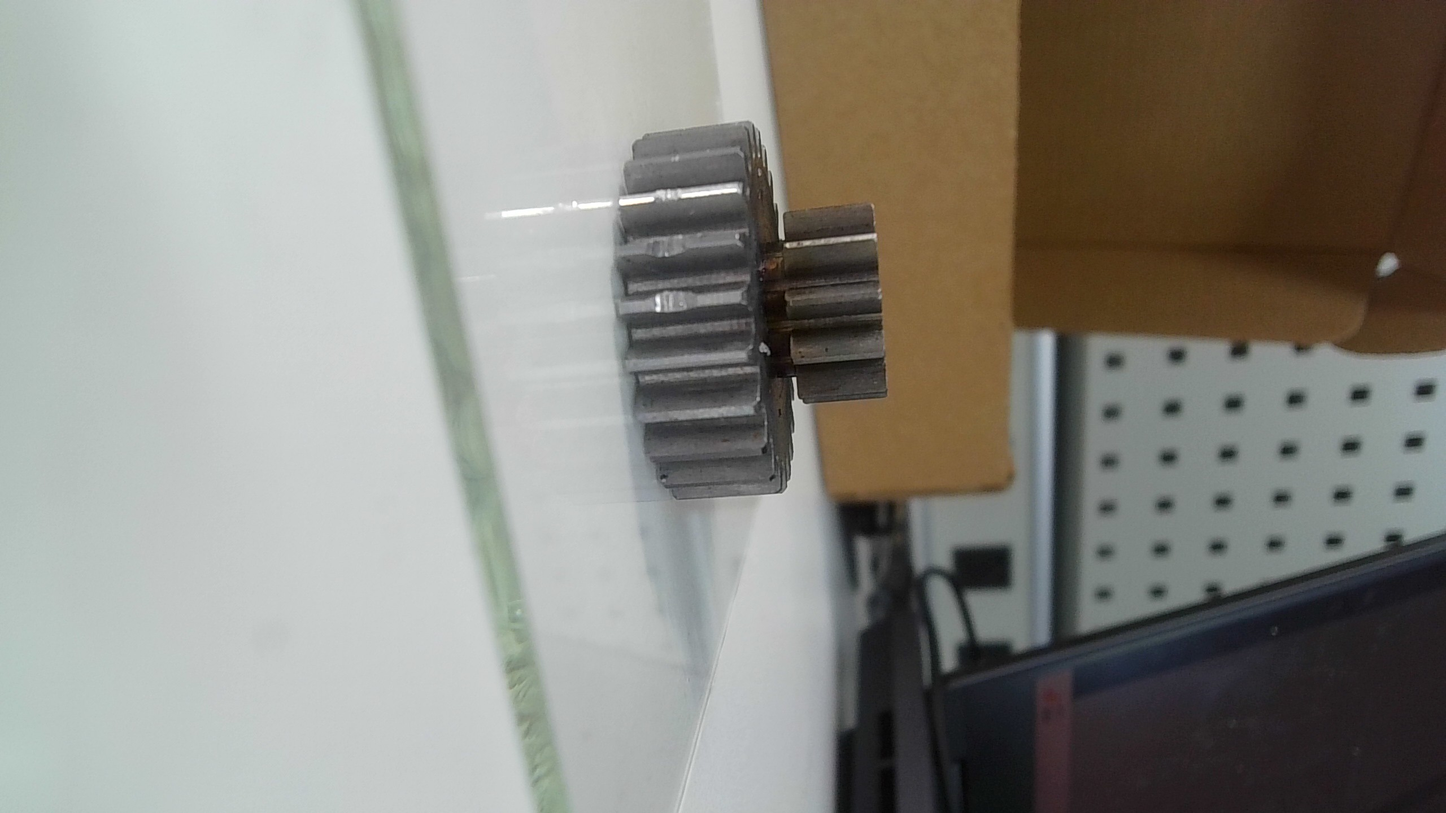gear: (600, 100, 902, 512)
